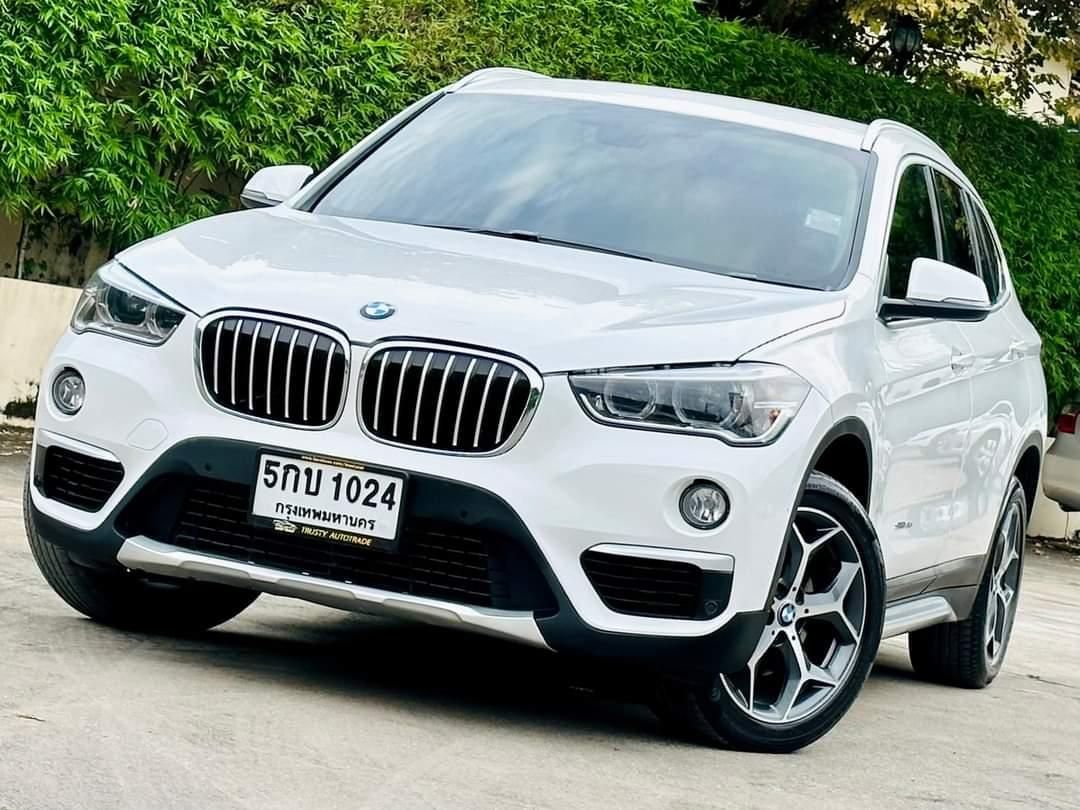license-plate: (245, 439, 412, 556)
